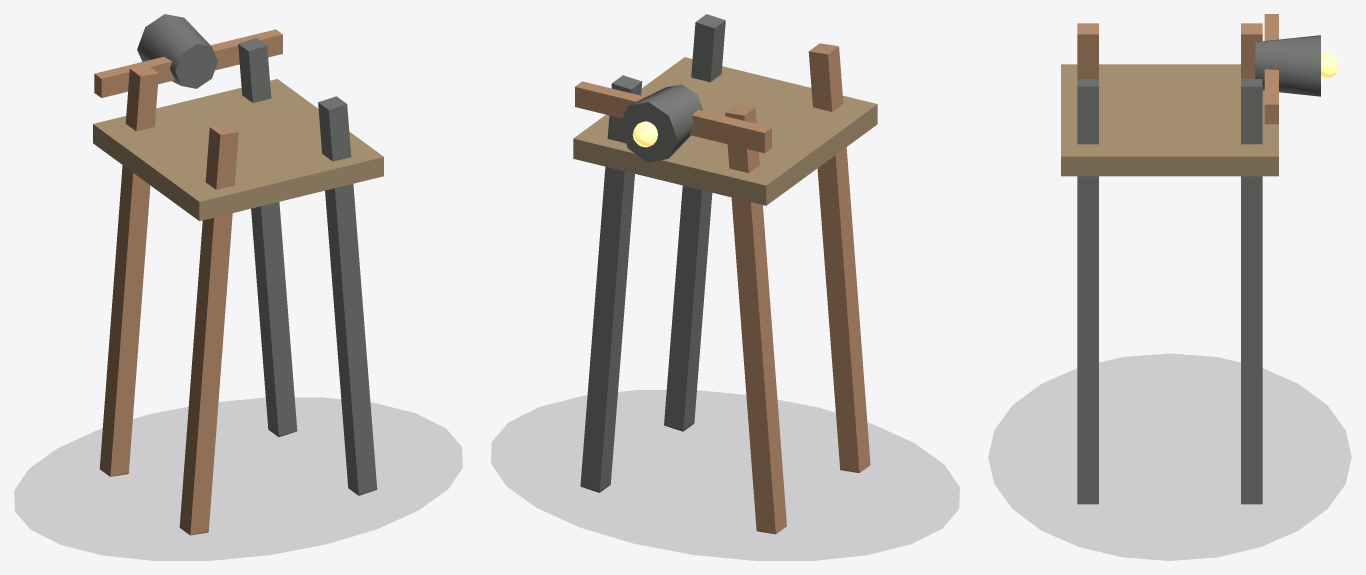
File: scrap_watch_tower.glb
3 renders of one model, left to right at view 1: azimuth 30°, elevation 25°; view 2: azimuth 150°, elevation 25°; view 3: azimuth 270°, elevation 25°, orthographic. The views are drawn at different scales.
Visible parts, largest first — view 1: baked_contact_shadow, platform, tower_leg_2, tower_leg_0, tower_leg_3, tower_leg_1, lamp_body, rail_front; view 2: baked_contact_shadow, platform, tower_leg_2, tower_leg_0, tower_leg_1, tower_leg_3, lamp_body, rail_front; view 3: baked_contact_shadow, platform, tower_leg_1, tower_leg_3, lamp_body, rail_front, tower_leg_2, tower_leg_0.
Boxes of the visible parts, <box> form: baked_contact_shadow: <box>15,398,461,560</box>; platform: <box>93,79,383,221</box>; tower_leg_2: <box>179,124,238,535</box>; tower_leg_0: <box>99,65,158,476</box>; tower_leg_3: <box>318,96,377,495</box>; tower_leg_1: <box>238,38,297,437</box>; lamp_body: <box>137,14,217,88</box>; rail_front: <box>94,29,282,97</box>; baked_contact_shadow: <box>491,390,959,560</box>; platform: <box>573,57,877,205</box>; tower_leg_2: <box>808,43,870,472</box>; tower_leg_0: <box>725,104,786,534</box>; tower_leg_1: <box>580,75,642,492</box>; tower_leg_3: <box>664,14,725,431</box>; lamp_body: <box>619,84,703,162</box>; rail_front: <box>575,81,771,153</box>; baked_contact_shadow: <box>989,354,1350,560</box>; platform: <box>1061,64,1278,176</box>; tower_leg_1: <box>1241,79,1262,504</box>; tower_leg_3: <box>1077,79,1098,504</box>; lamp_body: <box>1255,35,1320,96</box>; rail_front: <box>1264,14,1278,124</box>; tower_leg_2: <box>1077,23,1098,78</box>; tower_leg_0: <box>1241,23,1262,78</box>.
Bounding box in the file's own units: 2.7 × 2.57 × 2.
